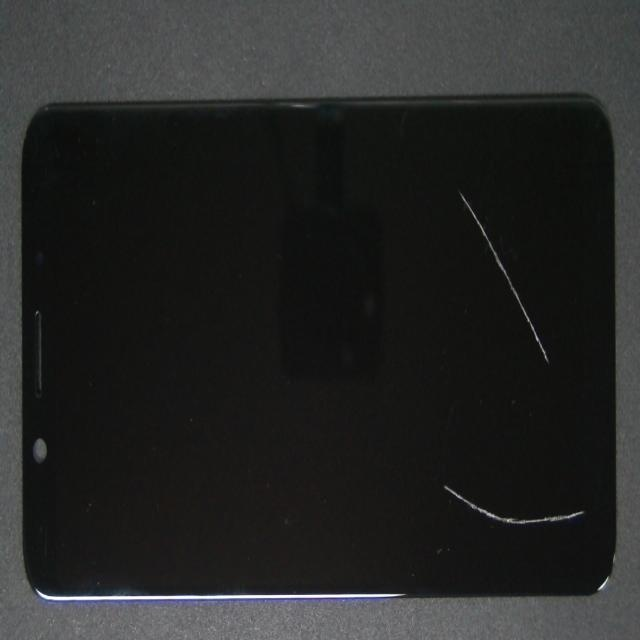scratch: (293, 279, 640, 640), (342, 278, 640, 453)
